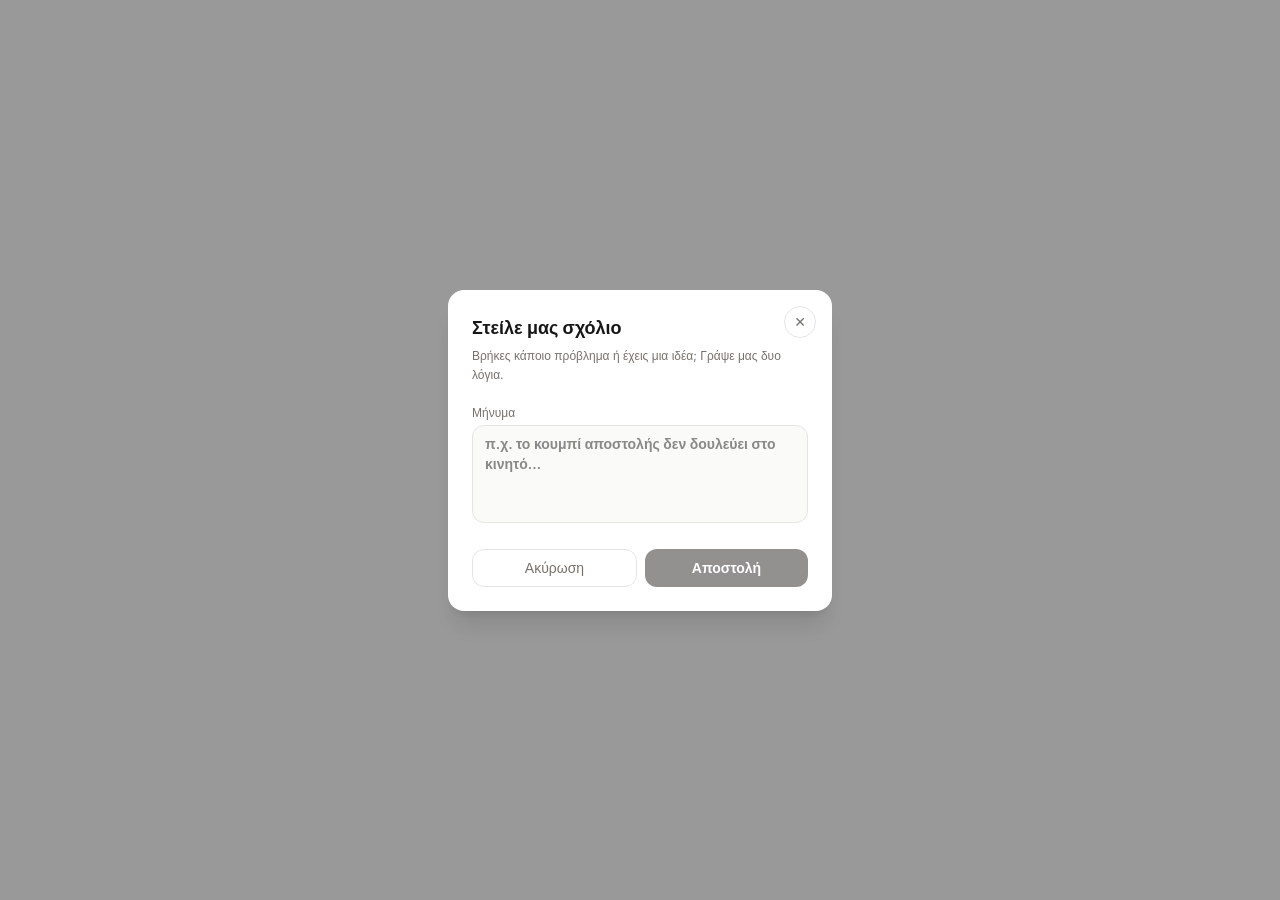
Test: FeedbackModal — submission › shows success state after a successful POST
Type "ωραίο παιχνίδι" into the text box with test id "feedback-modal-message" at (640, 474), box x1=472 y1=424 x2=808 y2=522
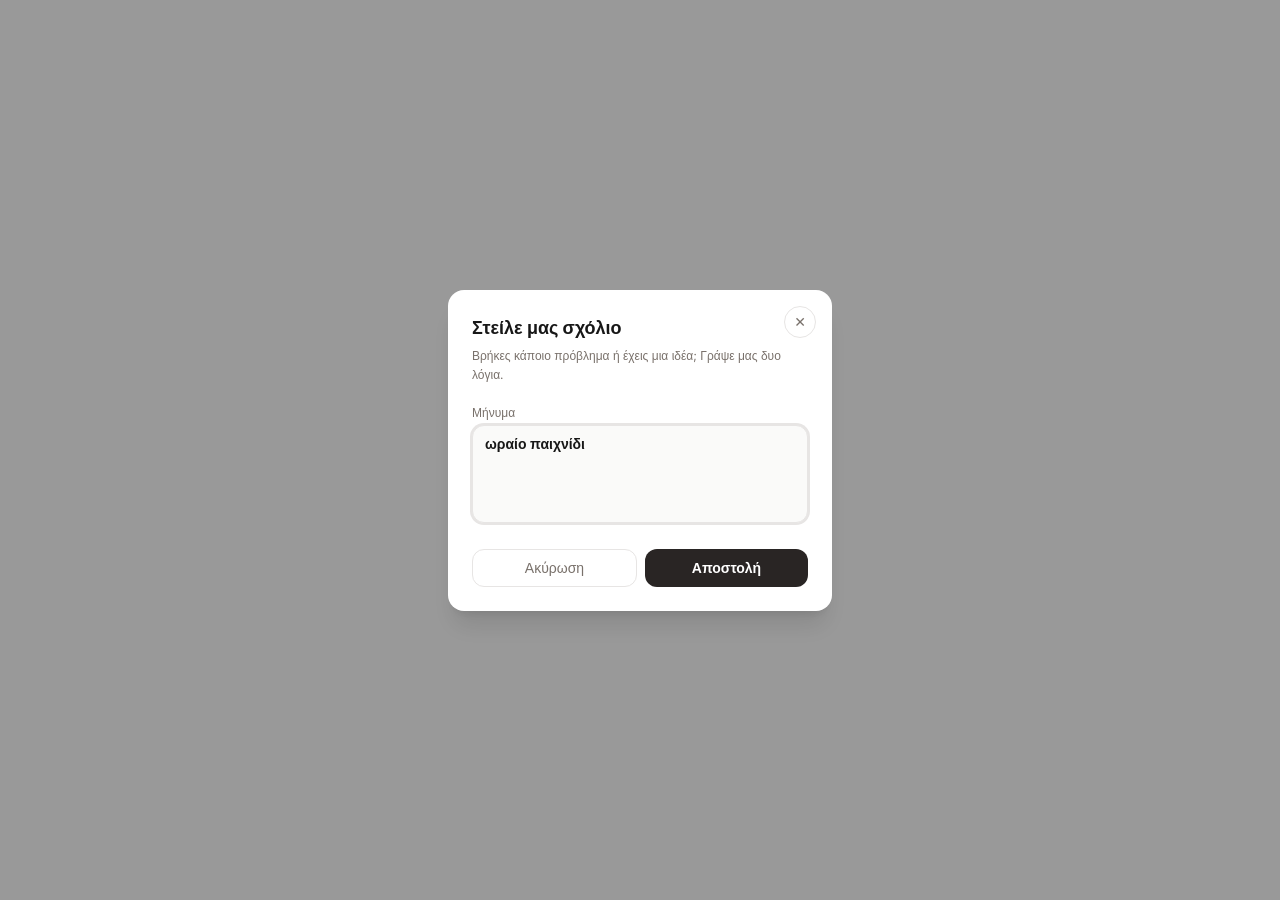
Click the button with test id "feedback-modal-submit" at (726, 568), box x1=645 y1=548 x2=808 y2=586
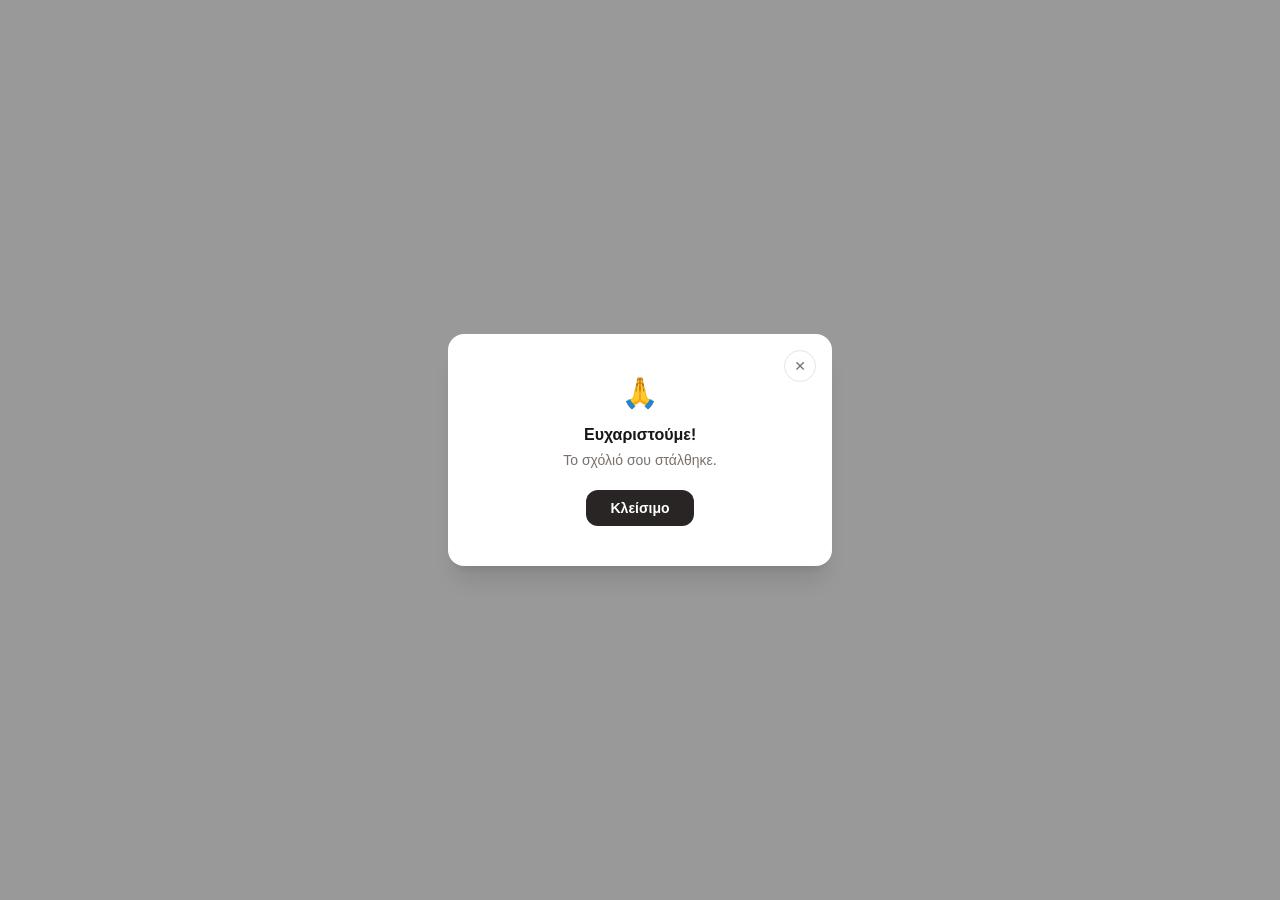
Now the element with test id "feedback-modal-success" is shown, box x1=563 y1=374 x2=717 y2=526
Now the text "Ευχαριστούμε!" is shown, box x1=584 y1=424 x2=696 y2=444
